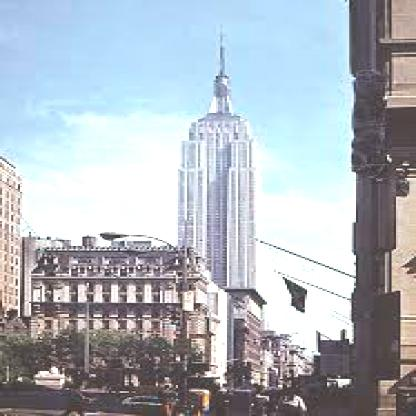Empire-State-building: (171, 17, 266, 246)
